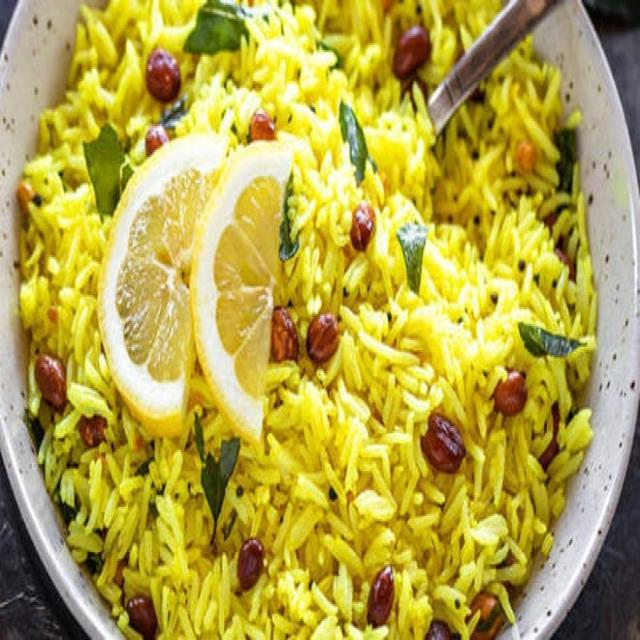lemon rice: (10, 0, 608, 640)
